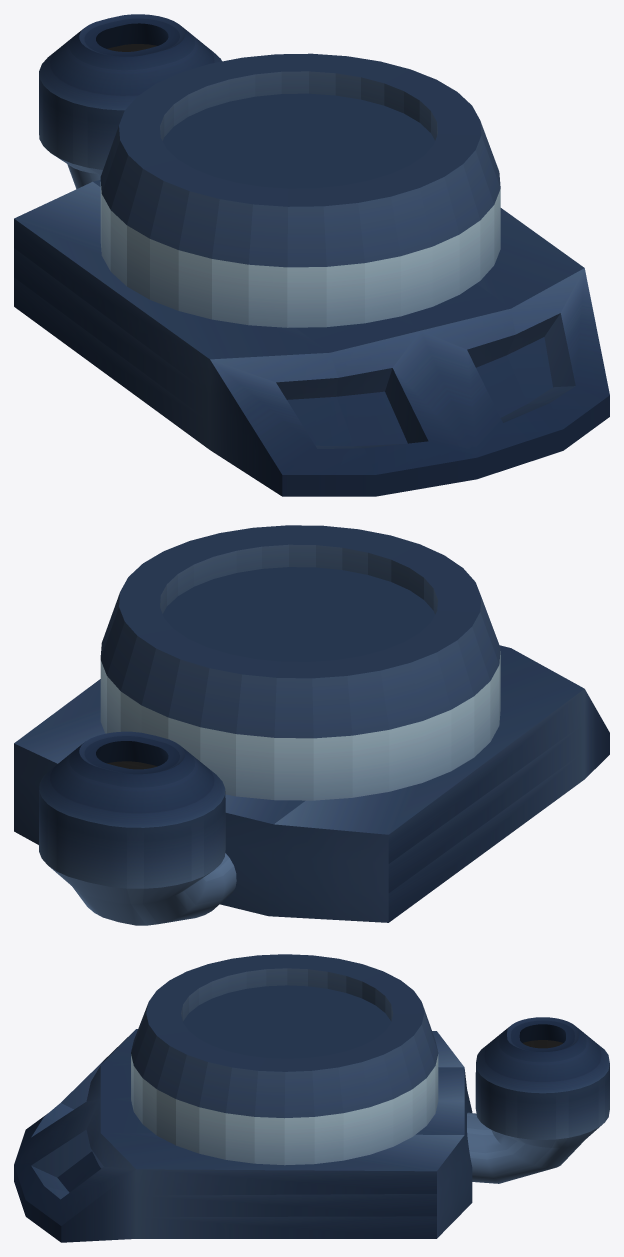
File: EnemyCart.fbx
The picture shows the model from 3 angles, top to bottom: view 1: azimuth 30°, elevation 25°; view 2: azimuth 150°, elevation 25°; view 3: azimuth 270°, elevation 25°; orthographic projection. The views are drawn at different scales.
Visible parts, largest first — view 1: TowerCart; view 2: TowerCart; view 3: TowerCart.
Part boxes in pixels (left/top/right/bottom): TowerCart: left=14, top=14, right=609, bottom=496; TowerCart: left=14, top=525, right=609, bottom=925; TowerCart: left=14, top=954, right=609, bottom=1242.
Size of the model in its own units: 675 by 378 by 1212.
